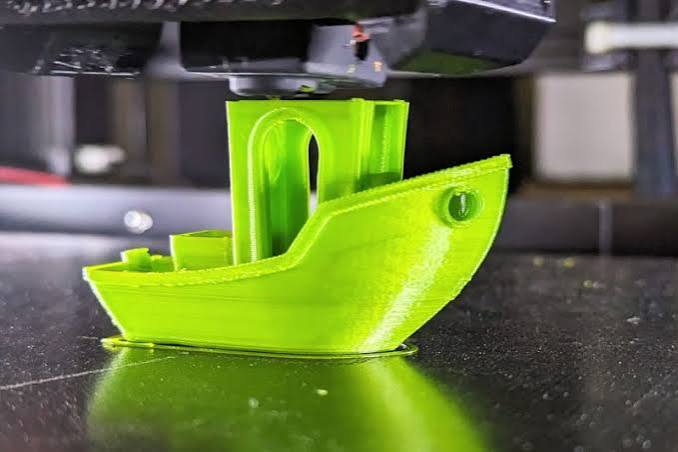3d print: (85, 99, 509, 353)
